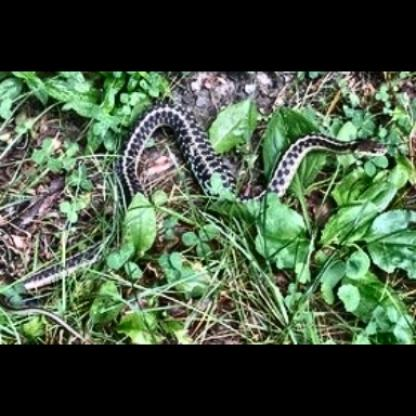Snake: (21, 101, 391, 301), (262, 124, 387, 197)
